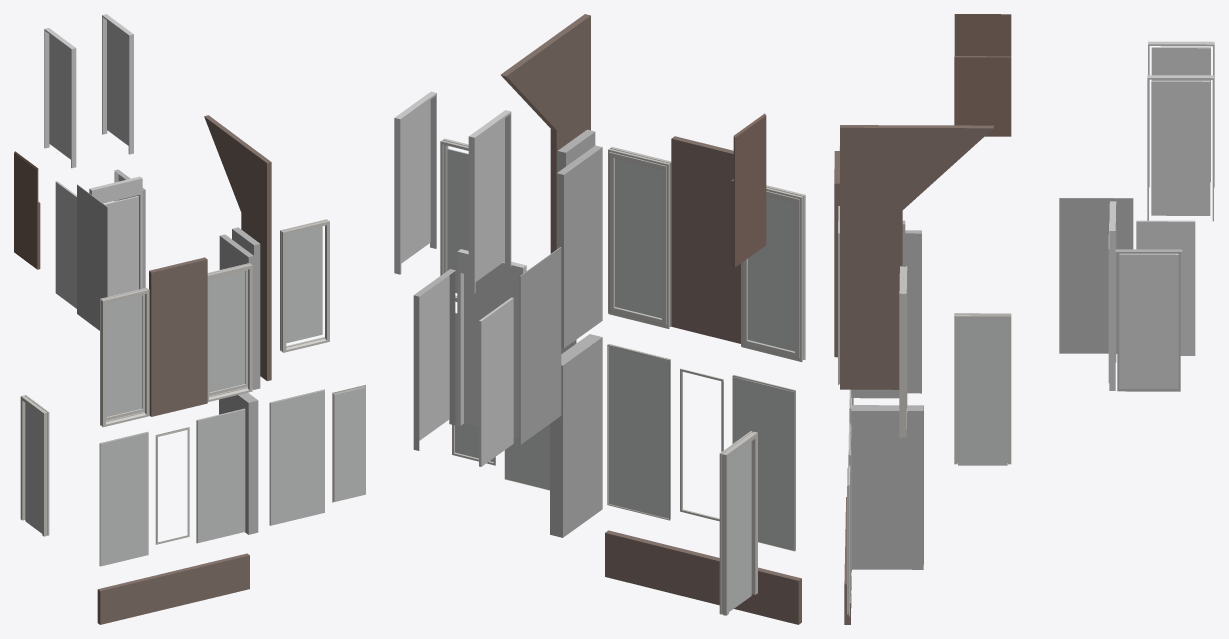
3 views of the same model, side by side, from view 1: azimuth 30°, elevation 25°; view 2: azimuth 150°, elevation 25°; view 3: azimuth 270°, elevation 25° (orthographic). The views are drawn at different scales.
Size of the model in its own units: 6.18 by 9.54 by 5.95.
